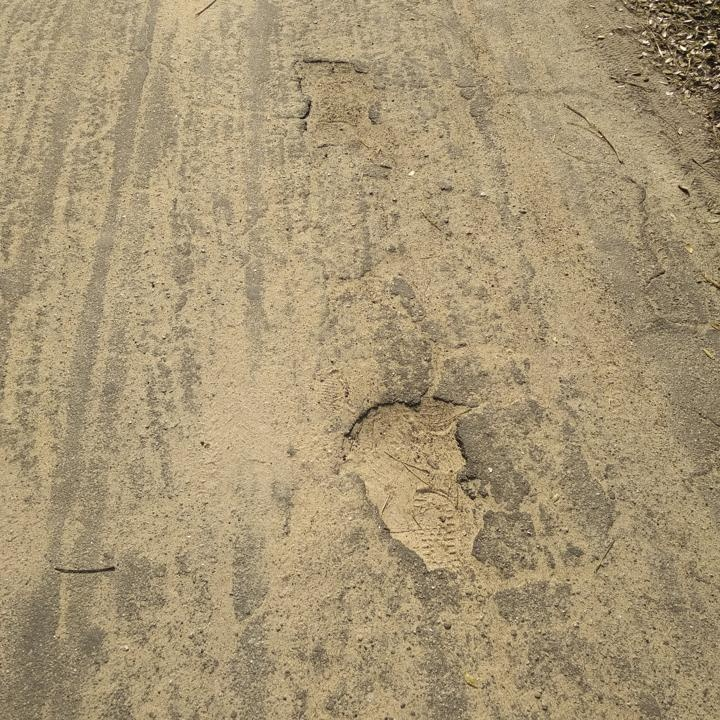pothole: (338, 384, 498, 575), (290, 53, 387, 151)
